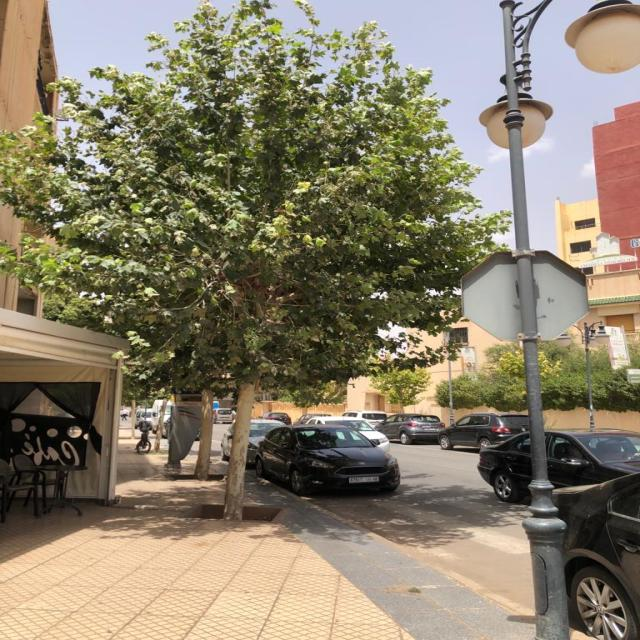Car: (254, 426, 401, 496)
Electric pole: (502, 0, 570, 640)
Tree: (10, 0, 495, 521)
